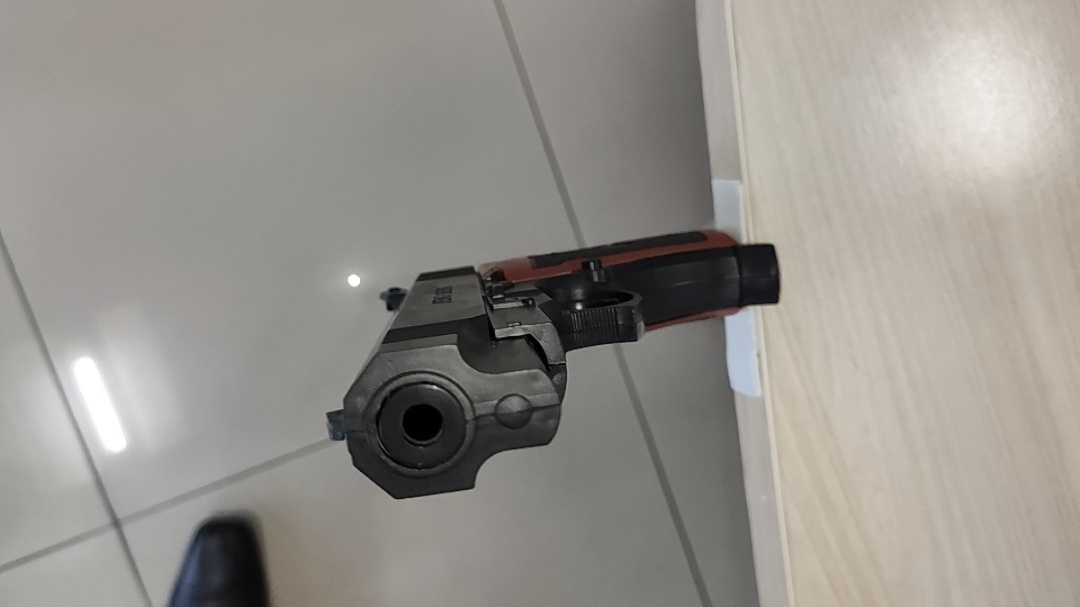gun: (379, 211, 416, 247)
